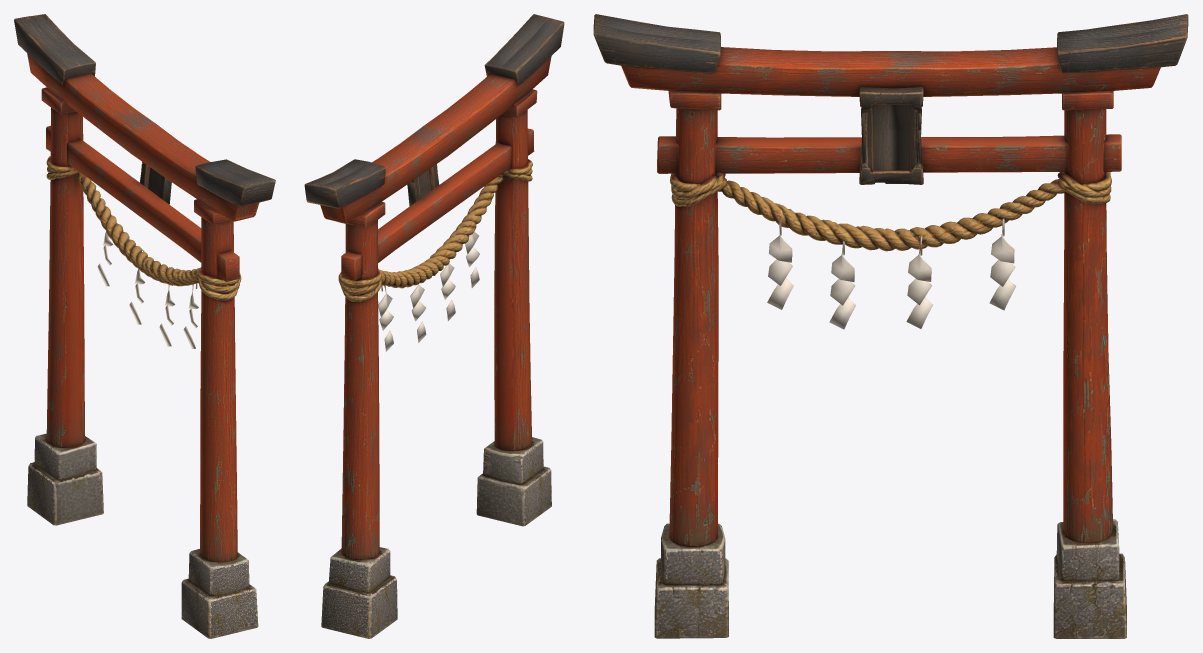
File: torii.glb
3 renders of one model, left to right at view 1: azimuth 30°, elevation 25°; view 2: azimuth 150°, elevation 25°; view 3: azimuth 270°, elevation 25°, orthographic. The views are drawn at different scales.
Visible parts, largest first — view 1: tripo_node_f5536a5d-0deb-45d3-a30a-ec81a2f74360; view 2: tripo_node_f5536a5d-0deb-45d3-a30a-ec81a2f74360; view 3: tripo_node_f5536a5d-0deb-45d3-a30a-ec81a2f74360.
Boxes of the visible parts, box(x1,y1,x2,y2) form: tripo_node_f5536a5d-0deb-45d3-a30a-ec81a2f74360: box(14, 14, 275, 638); tripo_node_f5536a5d-0deb-45d3-a30a-ec81a2f74360: box(304, 14, 564, 638); tripo_node_f5536a5d-0deb-45d3-a30a-ec81a2f74360: box(593, 14, 1188, 638).
Bounding box in the file's own units: 0.1128 × 0.9995 × 0.897.
Materials: 1 (1 with a texture image).
